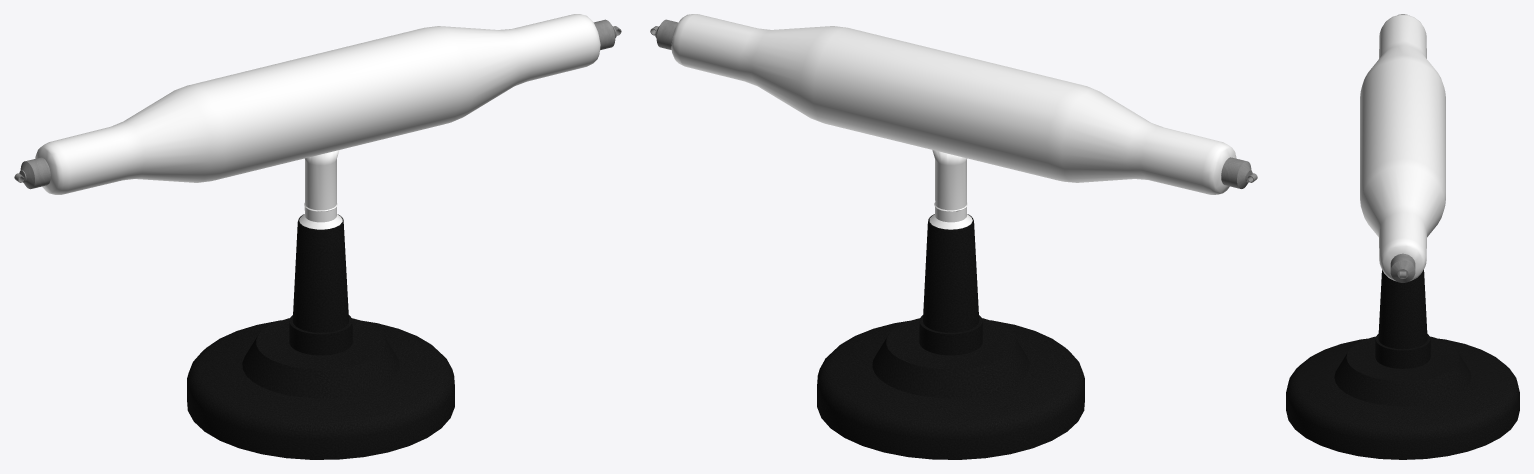
File: Crookes_tube_slitup_type.fbx
3 views of the same model, side by side, from view 1: azimuth 30°, elevation 25°; view 2: azimuth 150°, elevation 25°; view 3: azimuth 270°, elevation 25° (orthographic). The views are drawn at different scales.
Parts seen in each view (by area): view 1: OBJ_Body, Link_R; view 2: OBJ_Body, Link_R; view 3: OBJ_Body, Link_L.
Boxes of the visible parts, x1,y1,x2,y2 form: OBJ_Body: [35, 14, 600, 459]; Link_R: [14, 157, 50, 189]; OBJ_Body: [671, 14, 1236, 459]; Link_R: [1221, 157, 1257, 188]; OBJ_Body: [1286, 14, 1519, 459]; Link_L: [1390, 253, 1415, 282].
Size of the model in its own units: 51.71 by 28.22 by 19.94.
Materials: 4 (3 with a texture image).
